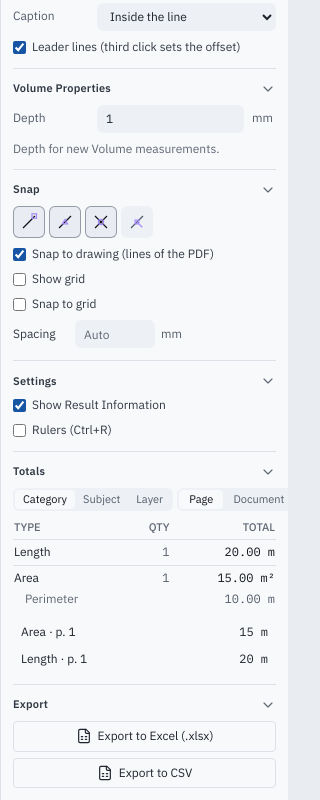
Test: Espacio de trabajo (ADR-0017) › Panel de mediciones › permite alternar agrupación por Category, Subject y Layer mostrando subtotales de takeoff (ADR-0077)
(page scrolled)
Expected: the table with test id "measurements-totals" is shown, [13,519,276,612]
Note: Cambiar a Subject
Click the button with test id "measurements-group-subject".
click(102, 500)  # box [75,490,128,509]
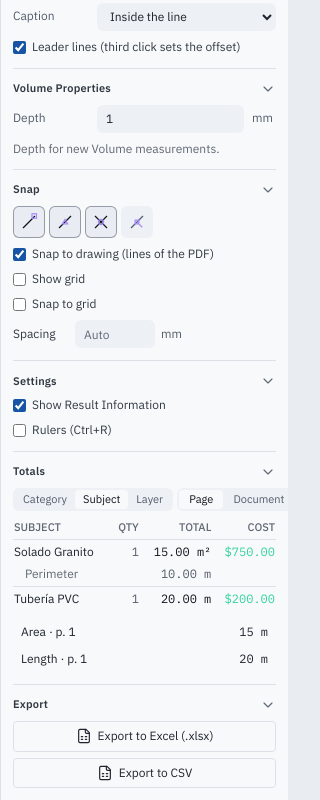
Expected: the table with test id "measurements-takeoff-totals" is shown, [13,519,276,612]
Expected: the row with test id "takeoff-subtotal-Solado Granito" is shown, [13,539,276,565]
Expected: the row with test id "takeoff-subtotal-Tubería PVC" is shown, [13,587,276,612]
Note: Cambiar a Layer
Click the button with test id "measurements-group-layer".
click(150, 500)  # box [128,490,171,509]
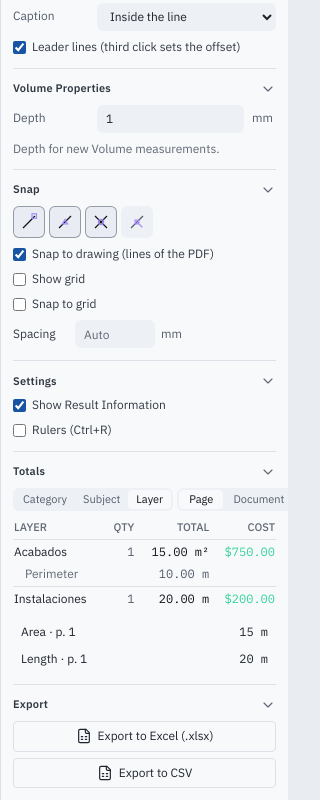
Expected: the row with test id "takeoff-subtotal-Acabados" is shown, [13,539,276,565]
Expected: the row with test id "takeoff-subtotal-Instalaciones" is shown, [13,587,276,612]
